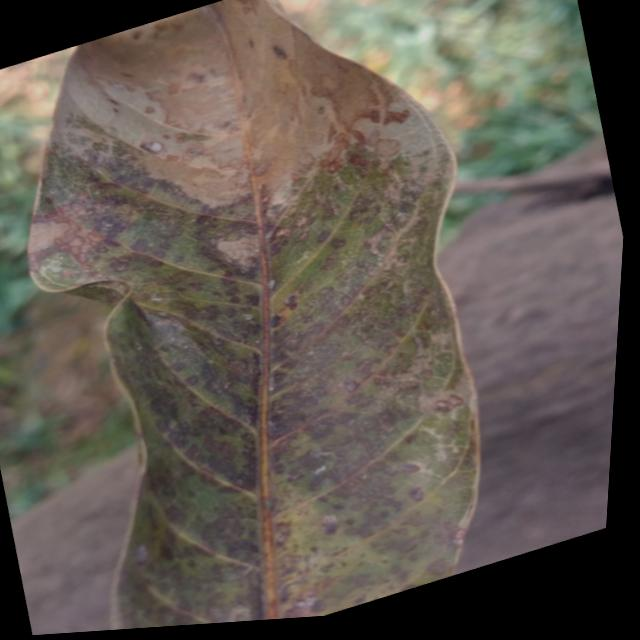black die: (266, 400, 386, 528), (192, 432, 233, 480), (380, 108, 410, 125), (130, 542, 150, 567), (283, 291, 303, 311), (274, 522, 290, 546), (269, 42, 288, 62), (406, 484, 425, 504), (140, 139, 163, 155), (308, 597, 327, 615), (321, 514, 338, 534), (244, 289, 262, 307), (328, 234, 346, 251), (266, 313, 283, 330), (187, 71, 206, 83), (342, 377, 357, 392), (247, 39, 253, 47)
